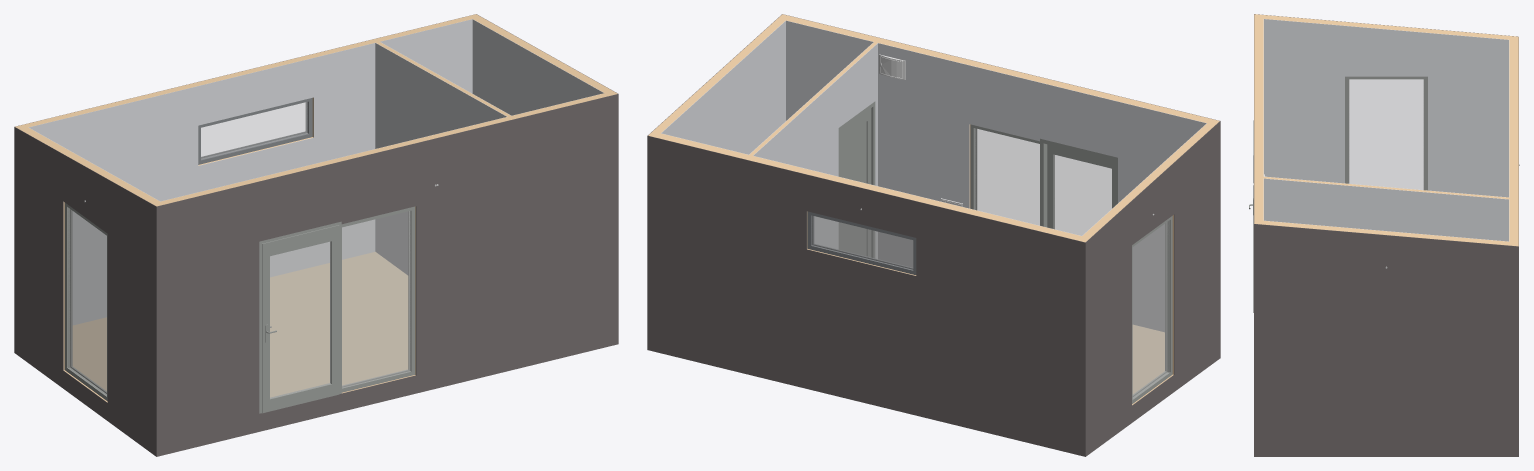
The model's file is dkontrimavicius@gmail-com_(3,2x6,0m)_R01.fbx.
3 renders of one model, left to right at view 1: azimuth 30°, elevation 25°; view 2: azimuth 150°, elevation 25°; view 3: azimuth 270°, elevation 25°, orthographic. The views are drawn at different scales.
Parts seen in each view (by area): view 1: IfcWall/Part:2323915, IfcWall/Part:2323920, IfcWall/Part:2323912, IfcSlab/Part:2323923, IfcDoor/Lauko durys:1000x2100 (dešininės):2429565, IfcWindow/Langai:2100 x 1000:2429564, IfcWall/Part:2323909, IfcWindow/Langai:2100 x 1000:2334172, IfcWall/Part:2323917, IfcWindow/Langai:1500 x 600:2333641, IfcWall/Part:2323922, IfcWall/Part:2323916 (+2 smaller); view 2: IfcWall/Part:2323921, IfcWall/Part:2323914, IfcWall/Part:2323912, IfcWall/Part:2323917, IfcWall/Part:2323909, IfcWindow/Langai:2100 x 1000:2334172, IfcDoor/Lauko durys:1000x2100 (dešininės):2429565, IfcWindow/Langai:2100 x 1000:2429564, IfcWindow/Langai:1500 x 600:2333641, IfcDoor/Vidaus durys:800x2100mm (kairinės, rakinamos):233349, IfcWall/Part:2323922, IfcWall/Part:2323916 (+5 smaller); view 3: IfcWall/Part:2323918, IfcWall/Part:2323911, IfcWall/Part:2323908, IfcWindow/Langai:2100 x 1000:2334172, IfcWall/Part:2323922, IfcWall/Part:2323916, IfcWall/Part:2323919, IfcWall/Part:2323913, IfcWall/Part:2323910, IfcWall/Part:2323921.
Boxes of the visible parts, box(x1,y1,x2,y2) form: IfcWall/Part:2323915: box(156, 94, 618, 456); IfcWall/Part:2323920: box(28, 19, 472, 325); IfcWall/Part:2323912: box(14, 127, 156, 456); IfcSlab/Part:2323923: box(72, 252, 408, 397); IfcDoor/Lauko durys:1000x2100 (dešininės):2429565: box(259, 221, 341, 413); IfcWindow/Langai:2100 x 1000:2429564: box(341, 206, 415, 392); IfcWall/Part:2323909: box(375, 43, 506, 274); IfcWindow/Langai:2100 x 1000:2334172: box(64, 202, 107, 401); IfcWall/Part:2323917: box(472, 19, 604, 115); IfcWindow/Langai:1500 x 600:2333641: box(198, 98, 312, 164); IfcWall/Part:2323922: box(15, 14, 480, 165); IfcWall/Part:2323916: box(152, 93, 608, 393); IfcWall/Part:2323921: box(647, 135, 1085, 456); IfcWall/Part:2323914: box(786, 20, 1206, 332); IfcWall/Part:2323912: box(1085, 121, 1220, 456); IfcWall/Part:2323917: box(661, 21, 785, 154); IfcWall/Part:2323909: box(753, 43, 877, 258); IfcWindow/Langai:2100 x 1000:2334172: box(1132, 216, 1172, 403); IfcDoor/Lauko durys:1000x2100 (dešininės):2429565: box(1040, 138, 1117, 235); IfcWindow/Langai:2100 x 1000:2429564: box(970, 124, 1047, 226); IfcWindow/Langai:1500 x 600:2333641: box(807, 211, 916, 274); IfcDoor/Vidaus durys:800x2100mm (kairinės, rakinamos):233349: box(838, 101, 875, 258); IfcWall/Part:2323922: box(648, 131, 1089, 275); IfcWall/Part:2323916: box(786, 16, 1219, 208); IfcWall/Part:2323918: box(1254, 224, 1518, 456); IfcWall/Part:2323911: box(1264, 19, 1508, 197); IfcWall/Part:2323908: box(1264, 178, 1508, 241); IfcWindow/Langai:2100 x 1000:2334172: box(1345, 76, 1427, 190); IfcWall/Part:2323922: box(1509, 36, 1518, 246); IfcWall/Part:2323916: box(1254, 14, 1263, 220); IfcWall/Part:2323919: box(1254, 220, 1509, 245); IfcWall/Part:2323913: box(1263, 15, 1509, 39); IfcWall/Part:2323910: box(1263, 176, 1509, 199); IfcWall/Part:2323921: box(1518, 37, 1518, 456).
Size of the model in its own units: 602 by 310 by 327.
